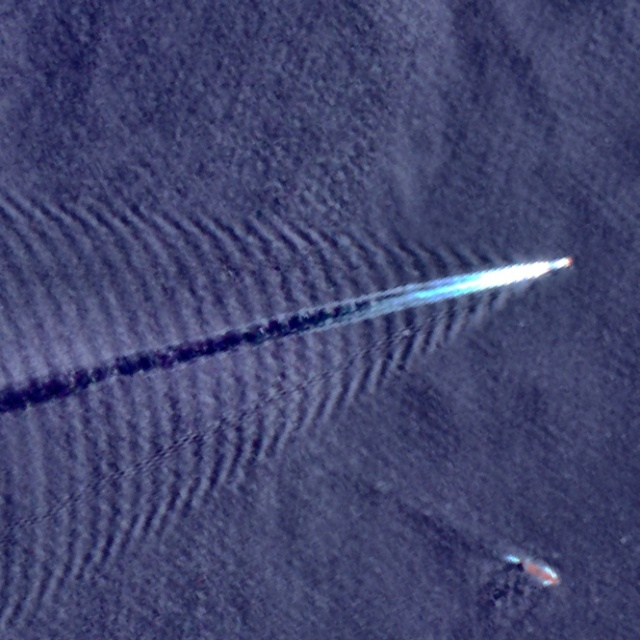wake: (272, 158, 601, 424)
